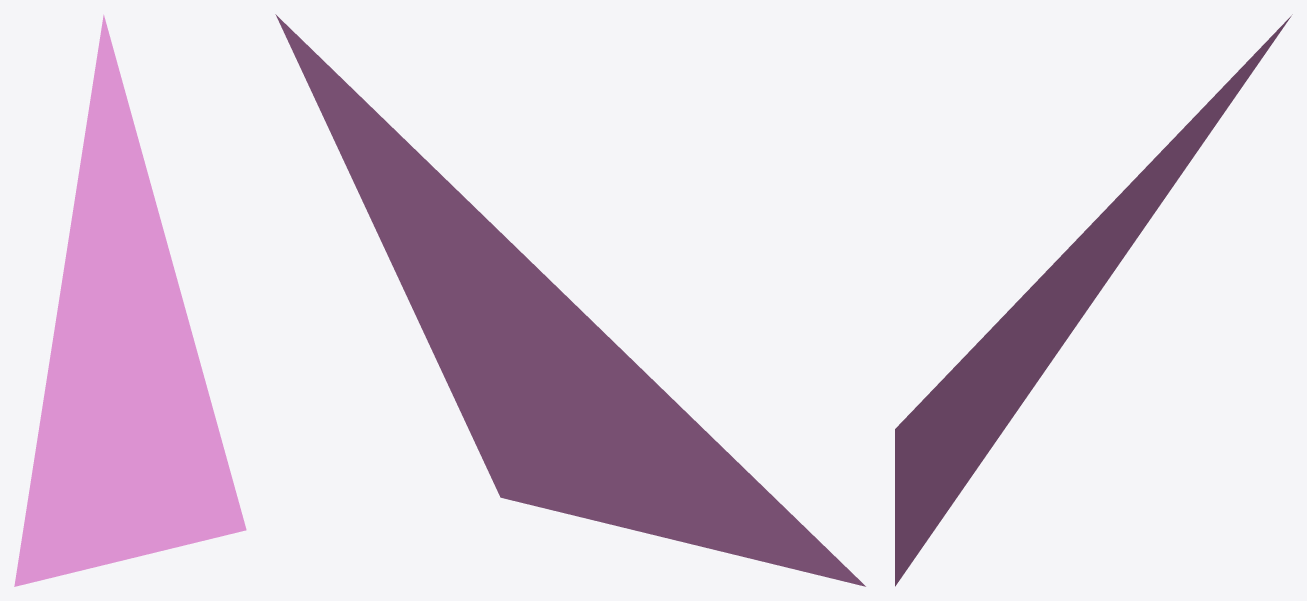
3 views of the same model, side by side, from view 1: azimuth 30°, elevation 25°; view 2: azimuth 150°, elevation 25°; view 3: azimuth 270°, elevation 25° (orthographic). The views are drawn at different scales.
Visible parts, largest first — view 1: Площина.003; view 2: Площина.003; view 3: Площина.003.
Boxes of the visible parts, bbox=[...] form: Площина.003: bbox=[14, 14, 246, 586]; Площина.003: bbox=[275, 14, 865, 586]; Площина.003: bbox=[895, 14, 1292, 586].
Size of the model in its own units: 2.85 by 4.82 by 3.03.
